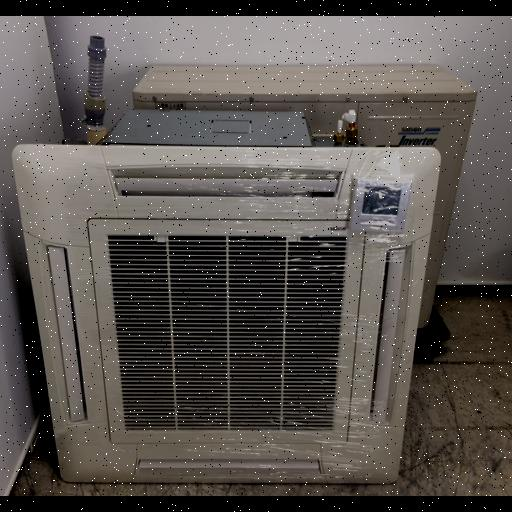4-way-ac: (13, 144, 440, 484)
